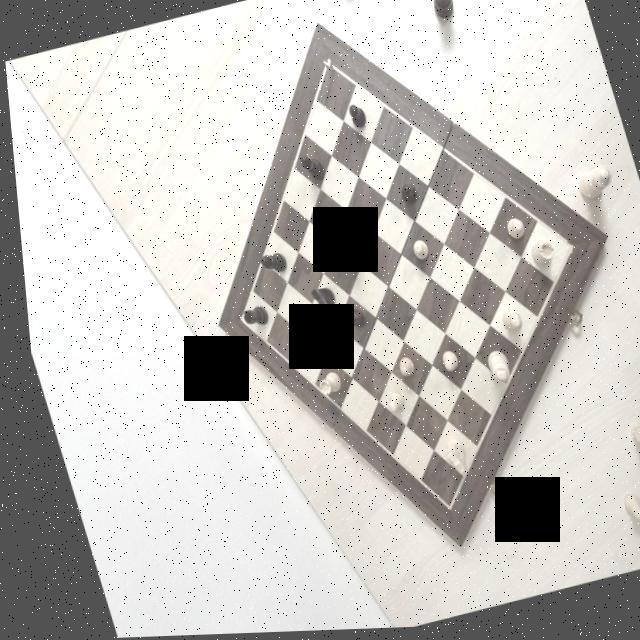chess-table-corners: (561, 242, 573, 256), (322, 58, 332, 72), (436, 504, 446, 516), (233, 316, 241, 324)
